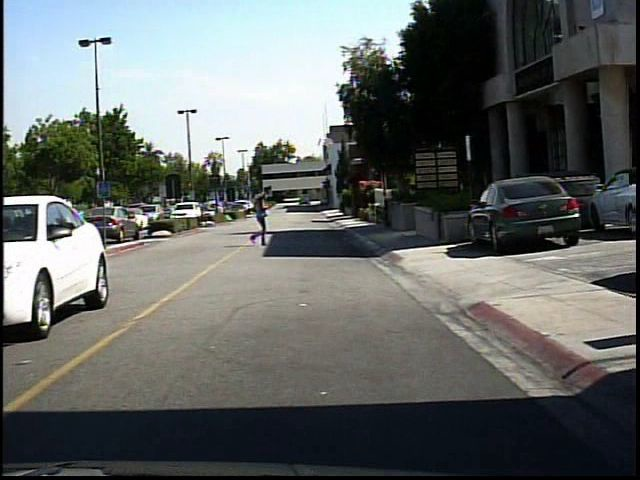person: (242, 186, 274, 249)
